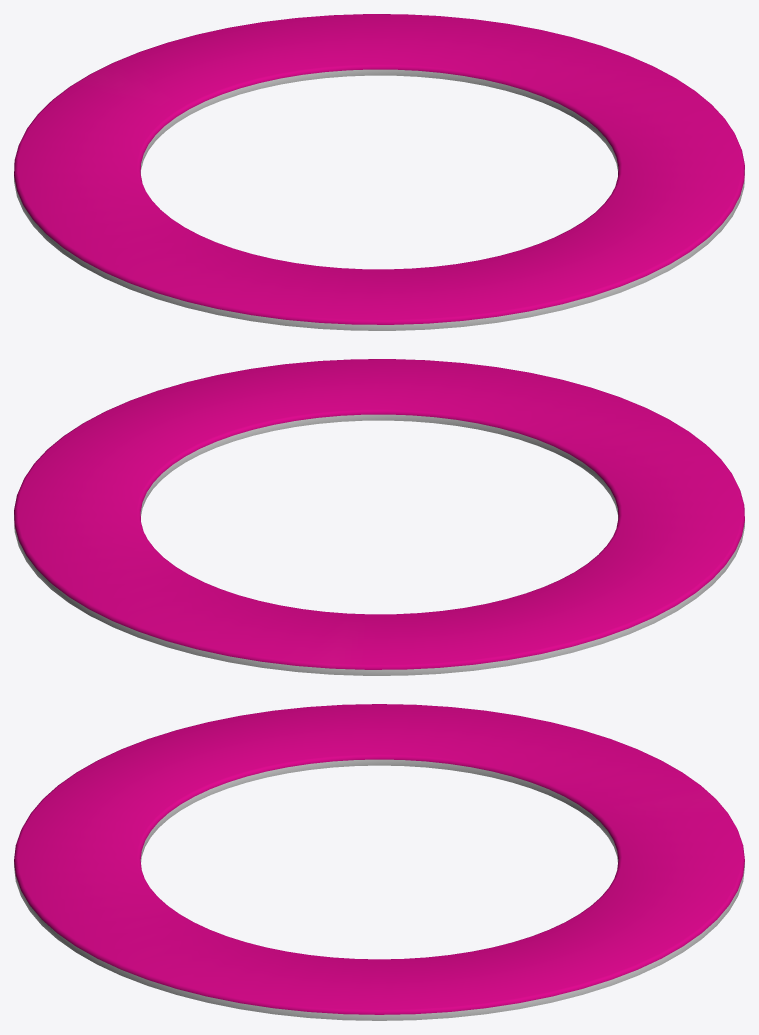
File: dangerArea_low.fbx
3 views of the same model, one above another, from view 1: azimuth 30°, elevation 25°; view 2: azimuth 150°, elevation 25°; view 3: azimuth 270°, elevation 25° (orthographic).
Visible parts, largest first — view 1: Cylinder; view 2: Cylinder; view 3: Cylinder.
Part boxes in pixels (x1,y1,x2,y2): Cylinder: (14,14,744,330); Cylinder: (14,359,744,675); Cylinder: (14,704,744,1020).
Bounding box in the file's own units: 1185 × 17.07 × 1185.
